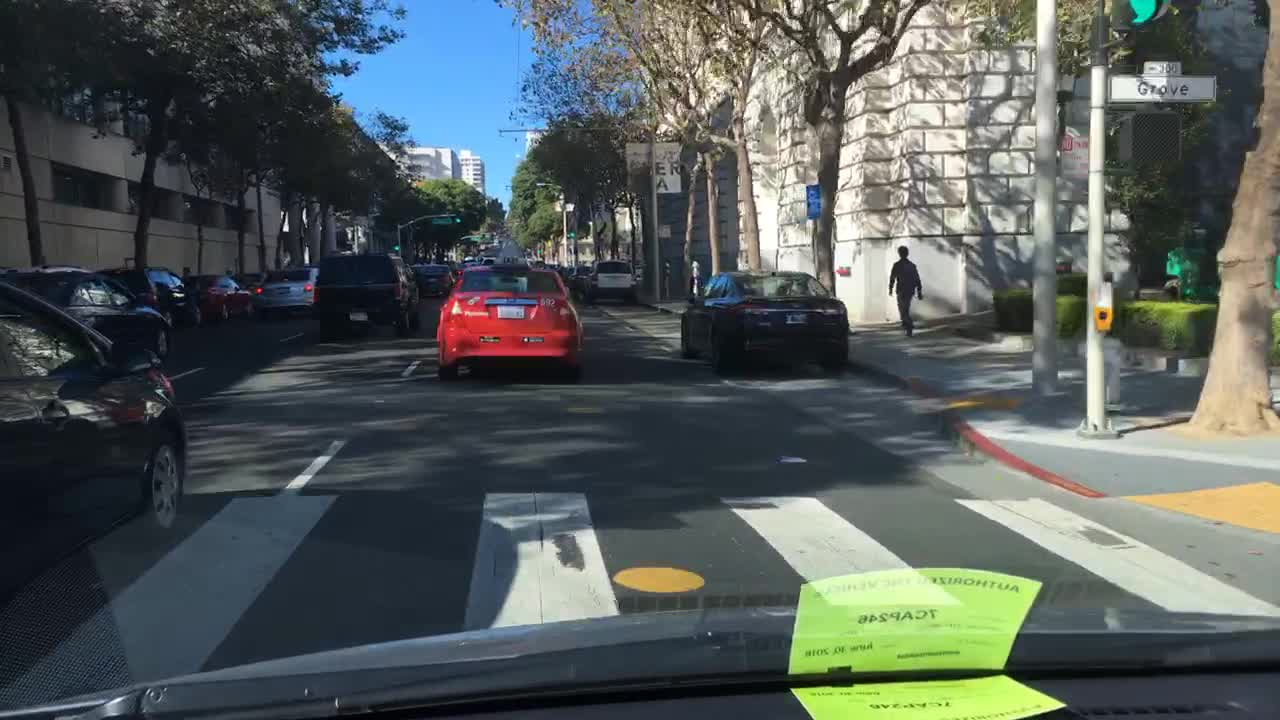car: (0, 274, 185, 613), (676, 268, 847, 383), (435, 264, 584, 388), (0, 266, 170, 374), (312, 254, 420, 342), (76, 264, 174, 339), (125, 266, 206, 349), (192, 271, 260, 323), (256, 268, 320, 318), (584, 258, 636, 308), (408, 261, 454, 300), (560, 268, 590, 307), (236, 271, 266, 302), (541, 259, 560, 278), (455, 254, 477, 269), (477, 254, 499, 268), (503, 254, 521, 268)
person: (886, 242, 921, 335), (685, 256, 702, 307)
traffic light: (1103, 0, 1164, 30), (391, 241, 400, 258), (563, 234, 577, 244)
traffic sign: (624, 140, 685, 194), (1103, 75, 1213, 99), (1139, 60, 1178, 74), (806, 187, 820, 219), (555, 199, 577, 214), (428, 215, 452, 226), (467, 232, 489, 242), (658, 224, 671, 234)
